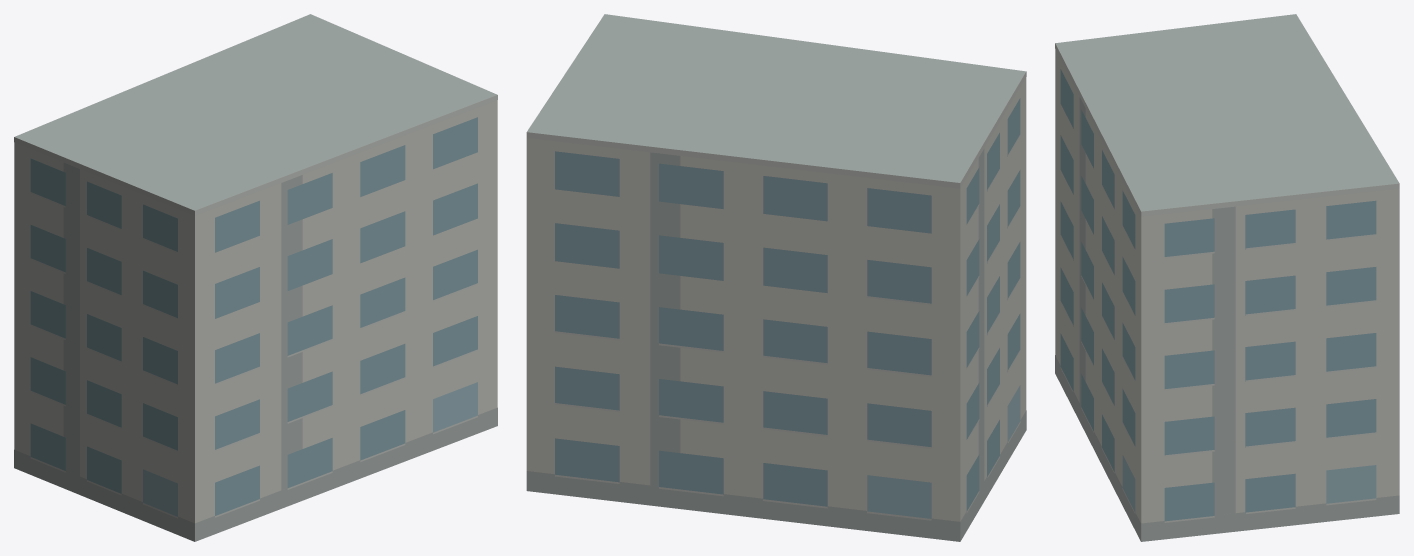
File: residential-addd1f1e-a819-4ec9-9794-759a948b6d8b.glb
3 views of the same model, side by side, from view 1: azimuth 30°, elevation 25°; view 2: azimuth 150°, elevation 25°; view 3: azimuth 270°, elevation 25° (orthographic). The views are drawn at different scales.
Visible parts, largest first — view 1: residential-addd1f1e-a819-4ec9-9794-759a948b6d8b.tmp; view 2: residential-addd1f1e-a819-4ec9-9794-759a948b6d8b.tmp; view 3: residential-addd1f1e-a819-4ec9-9794-759a948b6d8b.tmp.
Boxes of the visible parts, x1,y1,x2,y2 form: residential-addd1f1e-a819-4ec9-9794-759a948b6d8b.tmp: (14, 14, 497, 541); residential-addd1f1e-a819-4ec9-9794-759a948b6d8b.tmp: (526, 14, 1026, 541); residential-addd1f1e-a819-4ec9-9794-759a948b6d8b.tmp: (1055, 14, 1399, 541).
Size of the model in its own units: 19.57 by 15.25 by 14.43.
